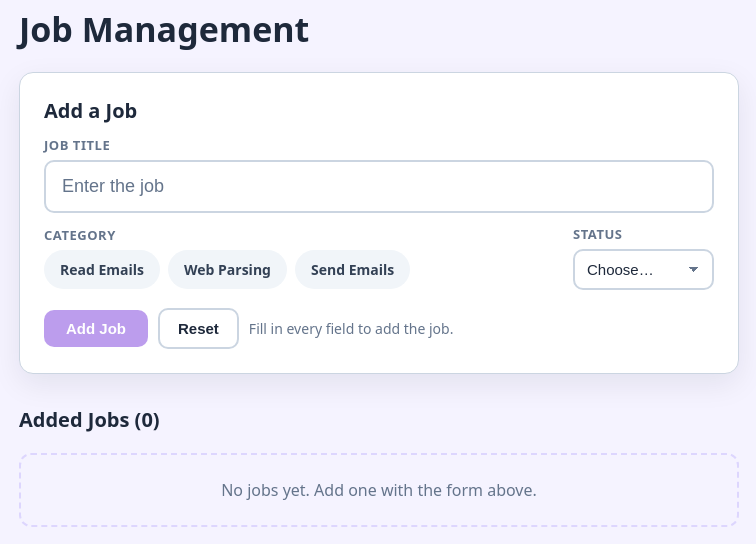
Scenario: reset clears the form
This screenshot has width=756, height=544.
Type "Check inbox" into the field labelled "Job title" at (379, 186), box top-left (44, 160), bottom-right (714, 213)
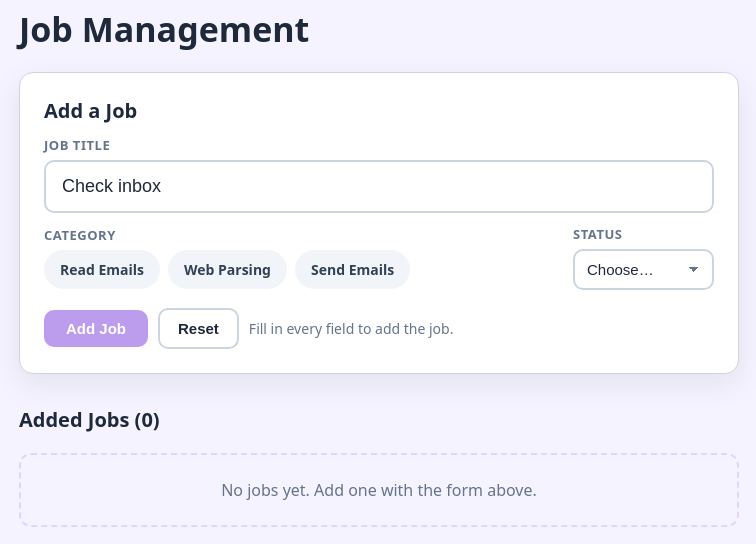
Click the radio button labelled "Read Emails" at (102, 270), box top-left (44, 250), bottom-right (160, 289)
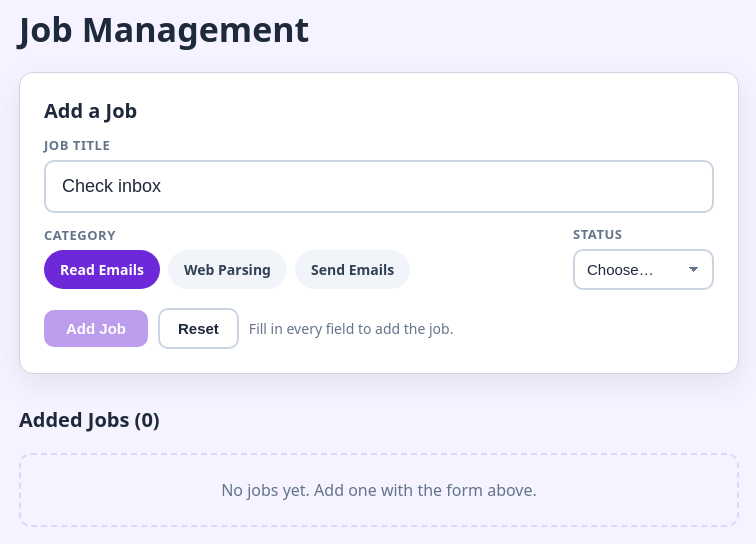
Select "Completed" in the dropdown labelled "Status" at (644, 270), box top-left (573, 249), bottom-right (714, 290)
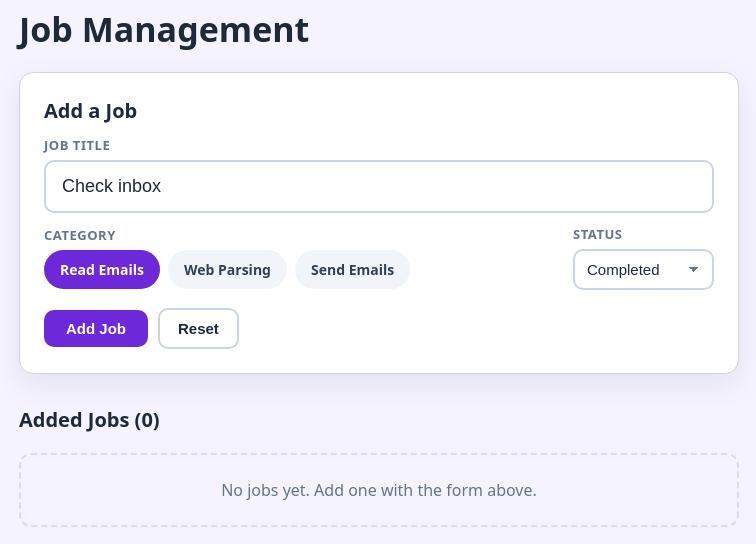
Click the button "Reset" at (198, 328), box top-left (158, 308), bottom-right (239, 349)
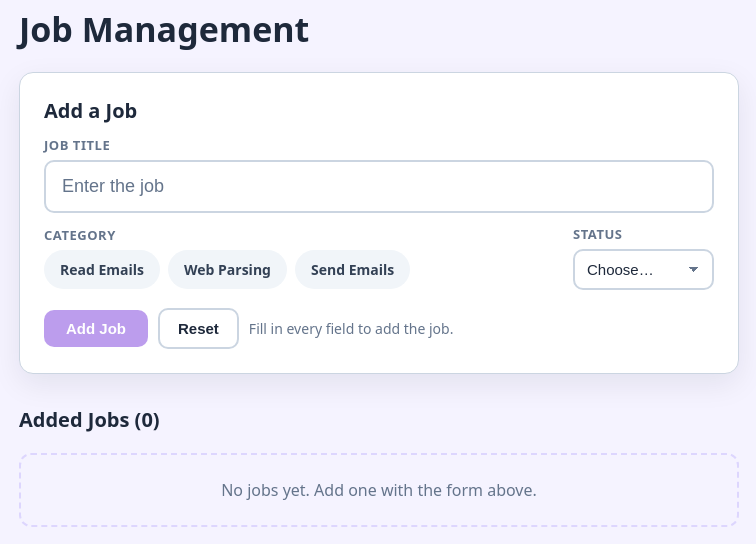
Now the field labelled "Job title" is empty, box top-left (44, 160), bottom-right (714, 213)
